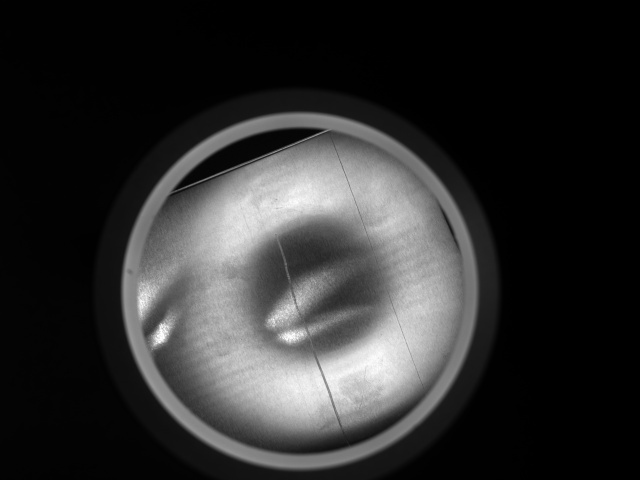ca_shang: (327, 132, 421, 389), (273, 228, 344, 440)
